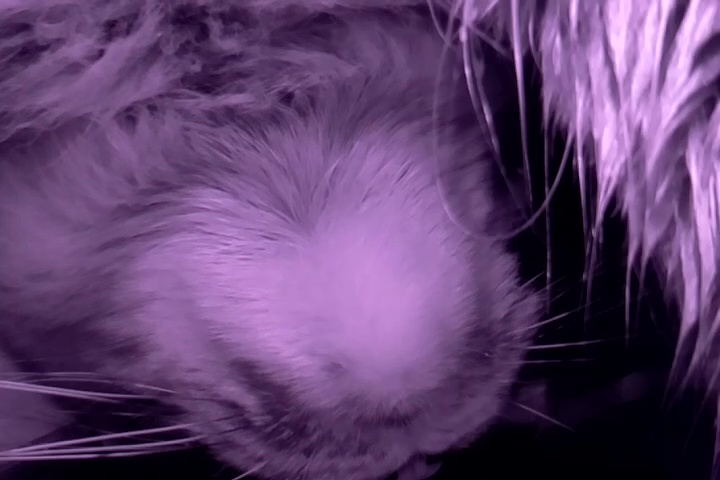Snout: (244, 338, 527, 476)
